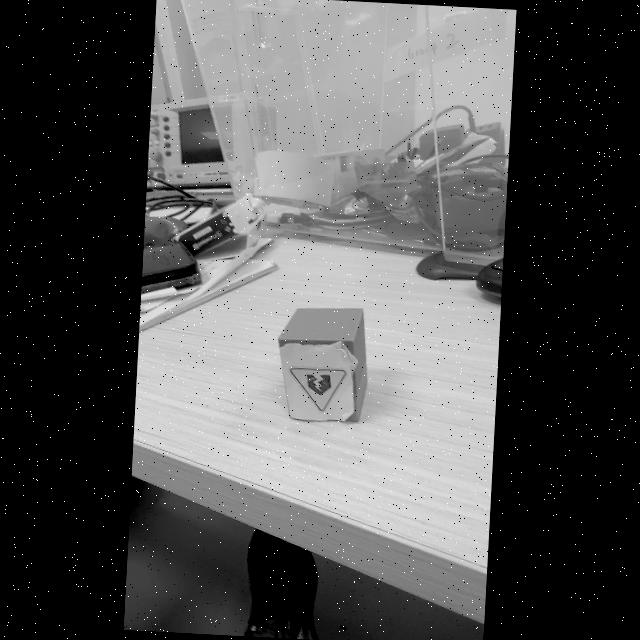Earthquake: (292, 368, 346, 412)
